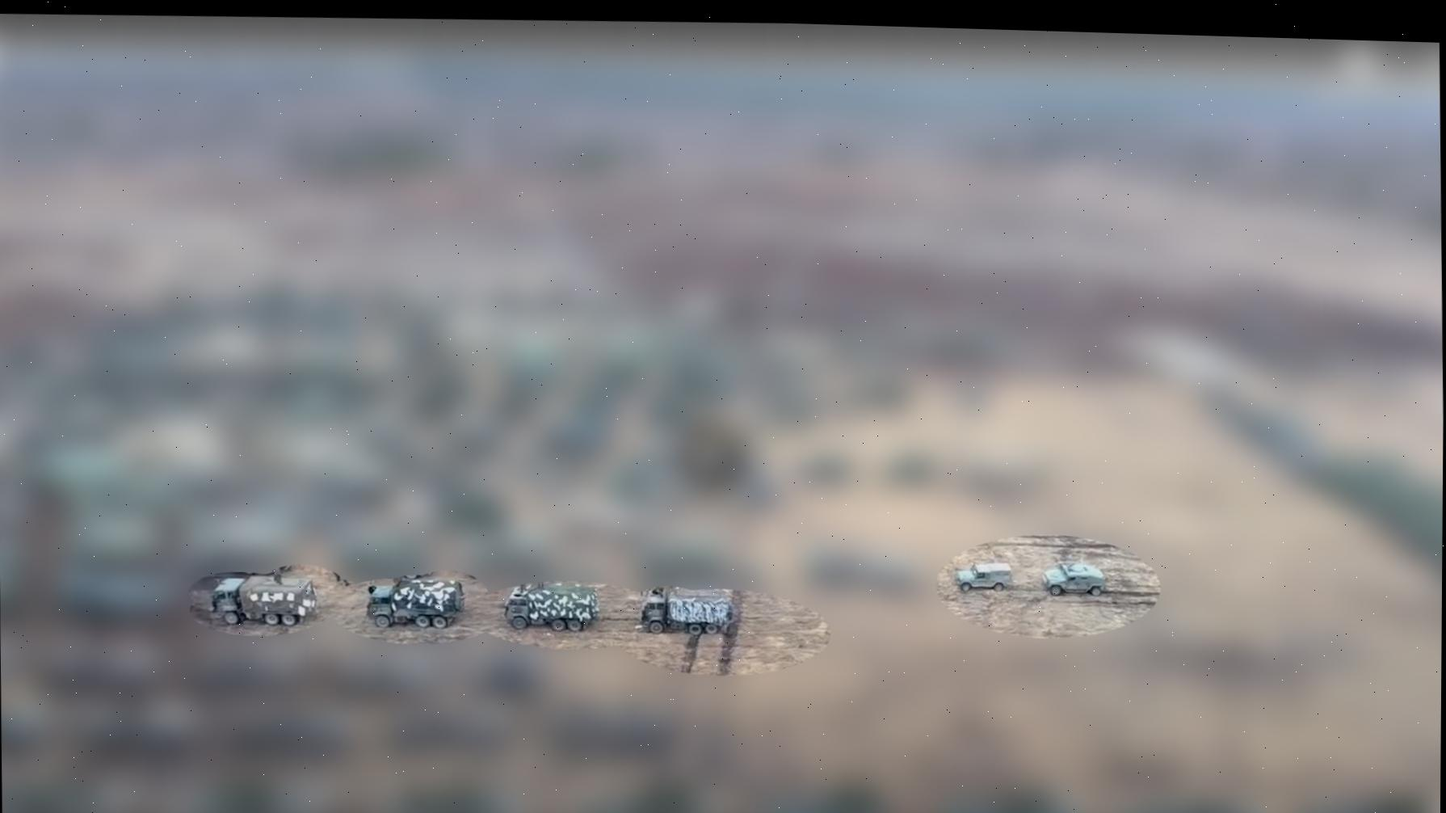armored_car: (1041, 560, 1108, 597), (955, 561, 1013, 592)
truck: (363, 569, 471, 632), (208, 573, 315, 631), (634, 583, 741, 637), (502, 579, 604, 634)
